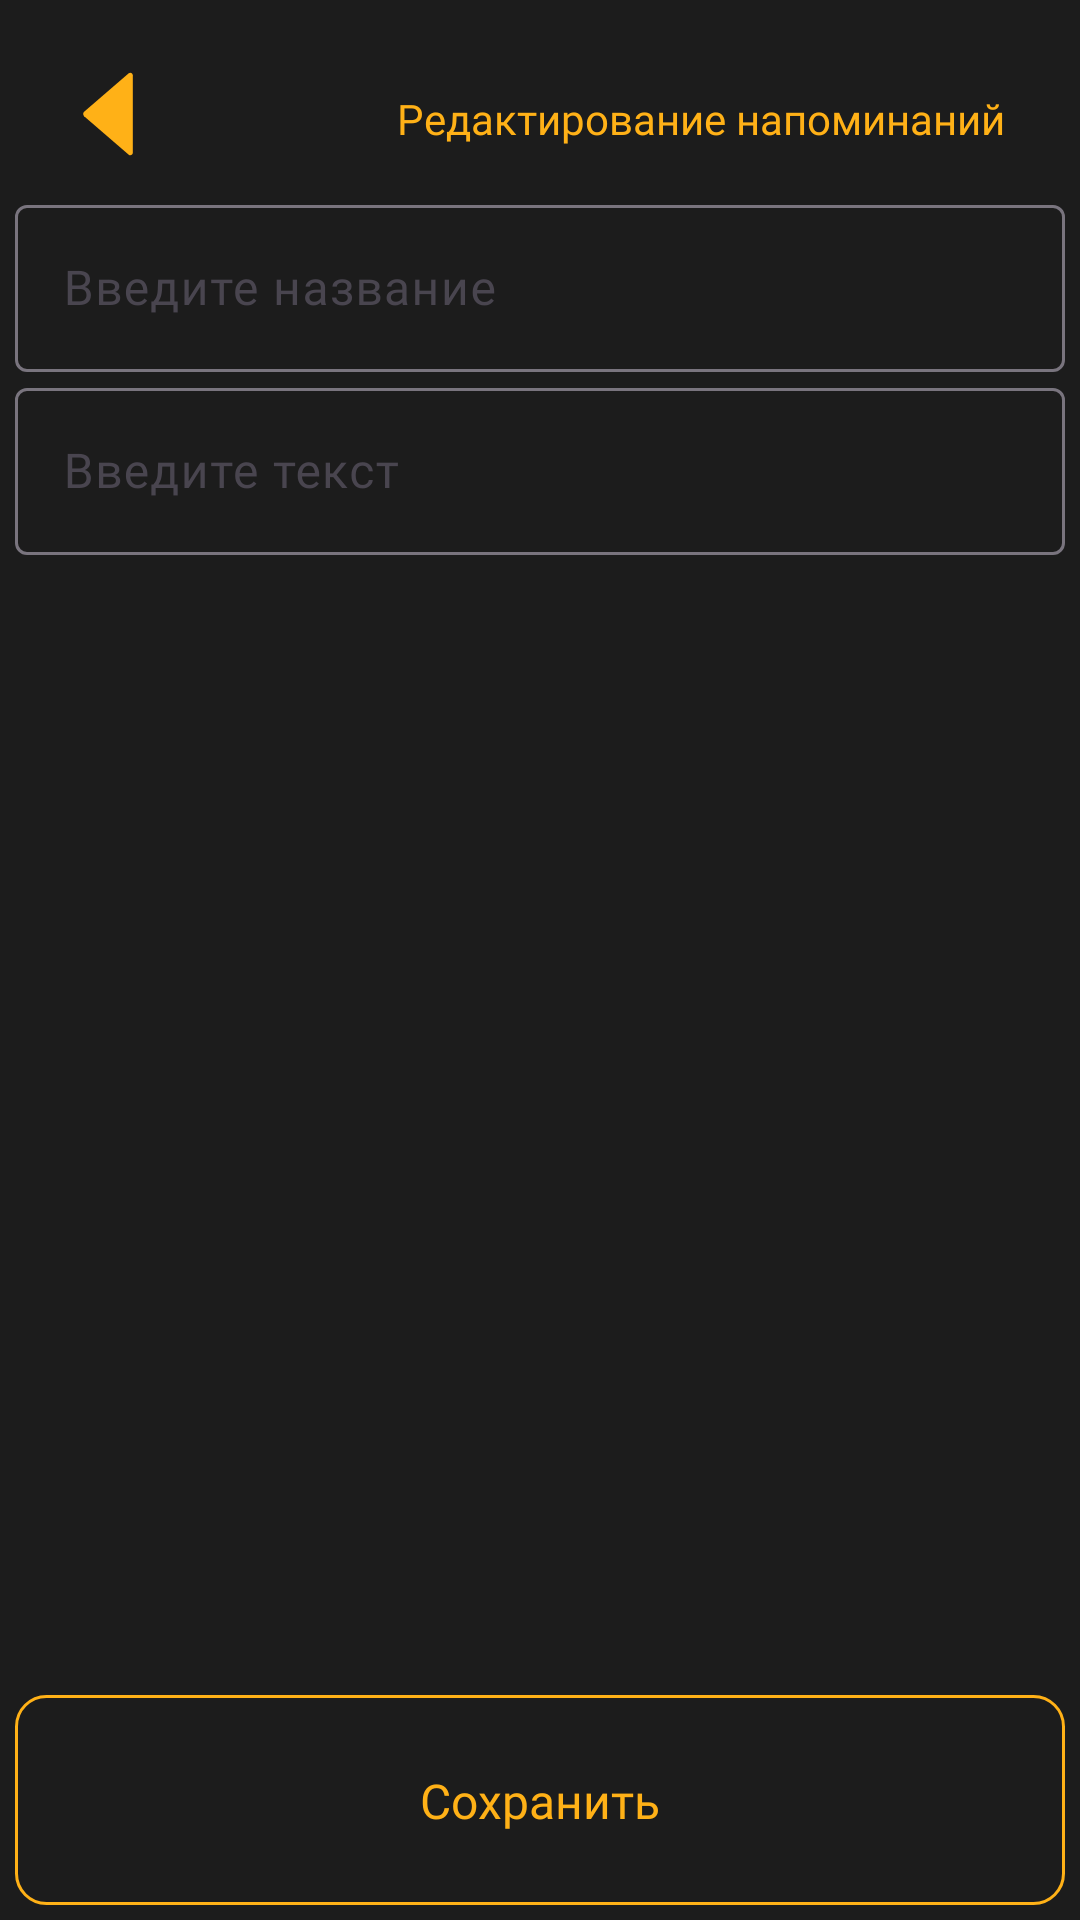

Screen size 1080x1920. Icon name, then its box in pixels as (x1, y1, x2, y2):
caretleftoutlined: (83, 72, 133, 156)
